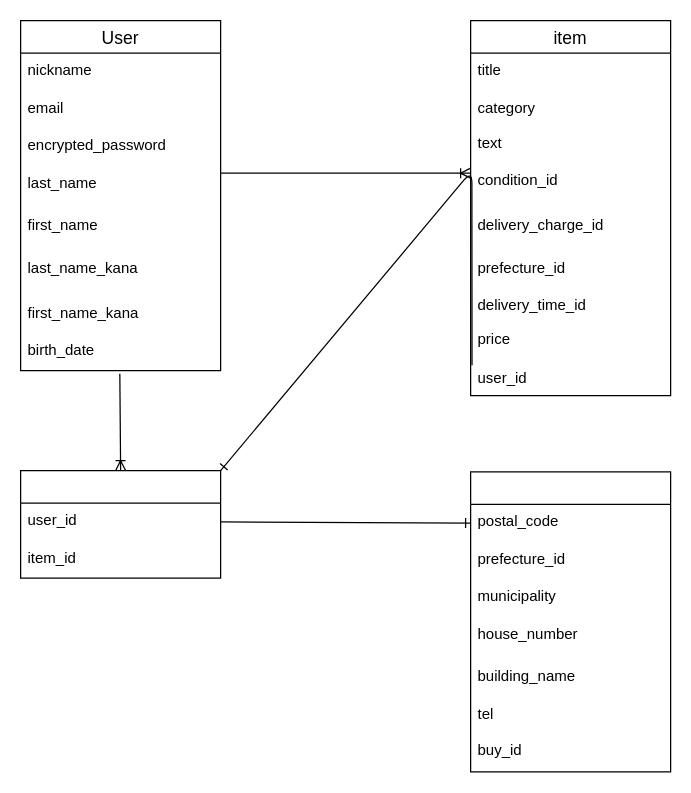
This 691x793 diagram has some shape labels left out. Each missing label, with the box of its shape:
address: (469, 471, 671, 772)
Buy: (19, 469, 221, 578)
